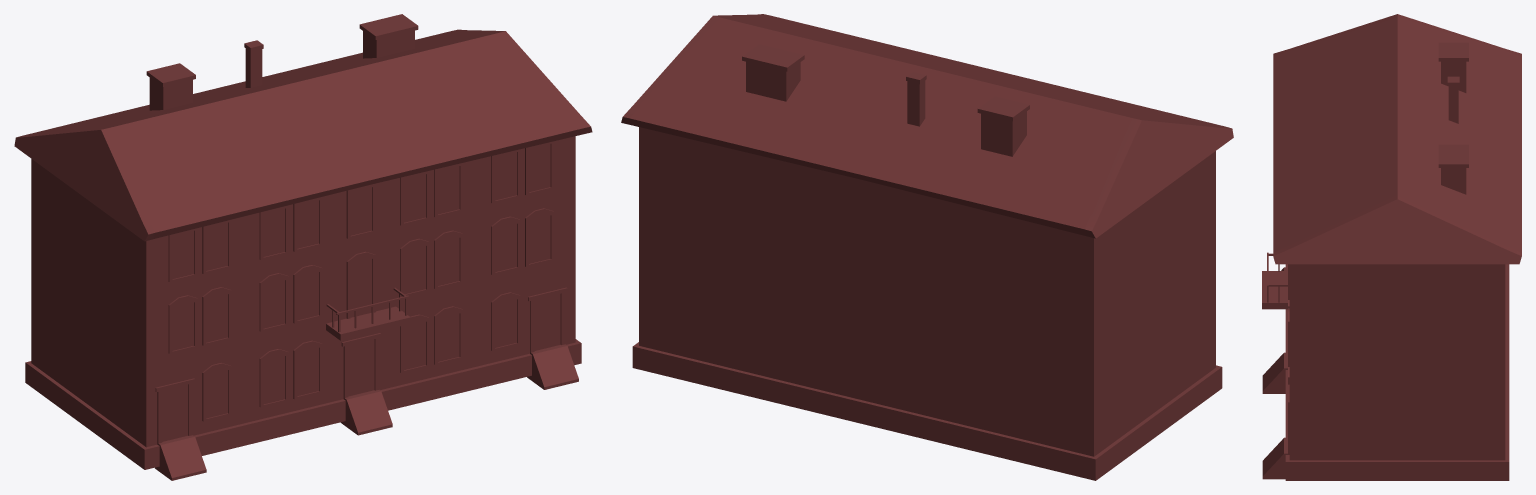
File: house_proto.fbx
3 renders of one model, left to right at view 1: azimuth 30°, elevation 25°; view 2: azimuth 150°, elevation 25°; view 3: azimuth 270°, elevation 25°, orthographic. The views are drawn at different scales.
Parts seen in each view (by area): view 1: Body, Window14 (×3), Window11 (×3), Window15 (×3), Window12 (×3), Window16 (×3), Window10 (×3), Doorway, Doorway2, Doorway1, Window9 (×2), Window13 (×2) (+6 smaller); view 2: Body, Chimney, Chimney1, Chimney2; view 3: Body, Chimney, Chimney1, Base, Doorway1, Doorway, Chimney2.
Boxes of the visible parts, x1,y1,x2,y2 form: Body: (14, 29, 592, 469); Window14 (×3): (293, 197, 322, 399); Window11 (×3): (434, 163, 463, 364); Window15 (×3): (259, 205, 288, 407); Window12 (×3): (491, 149, 520, 350); Window16 (×3): (202, 219, 231, 421); Window10 (×3): (400, 171, 429, 373); Doorway: (340, 333, 392, 435); Doorway2: (155, 378, 206, 480); Doorway1: (527, 287, 578, 389); Window9 (×2): (346, 183, 375, 318); Window13 (×2): (525, 141, 554, 266); Body: (621, 14, 1233, 480); Chimney: (742, 44, 804, 101); Chimney1: (977, 96, 1029, 156); Chimney2: (906, 72, 926, 126); Body: (1273, 14, 1521, 480); Chimney: (1438, 144, 1468, 194); Chimney1: (1438, 42, 1468, 92); Base: (1262, 271, 1287, 309); Doorway1: (1262, 384, 1289, 479); Doorway: (1262, 352, 1287, 393); Chimney2: (1447, 76, 1459, 123).
Size of the model in its own units: 135 by 91.32 by 72.28.
